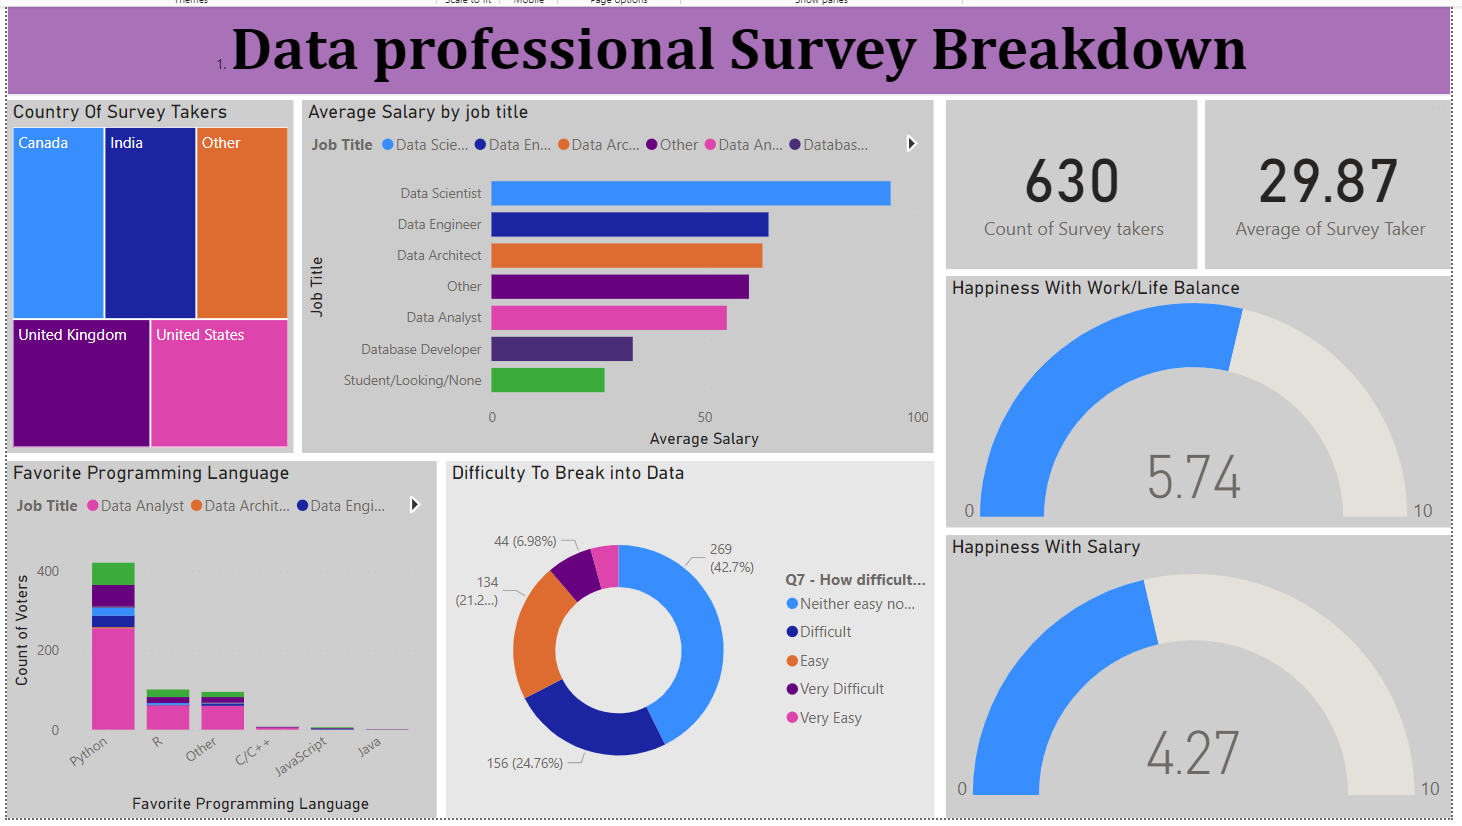

Layout of this report page (visuals, bound fields, positions):
{"tool":"powerbi","page":{"name":"Page 1","canvas":[1280,720],"ordinal":0},"visuals":[{"type":"textbox","box":[0,0,1280.4,78.9],"z":0},{"type":"card","fields":{"Values":["Count(Data Professional Survey.Unique ID)"]},"box":[832.6,83.3,222.6,149.9],"z":1},{"type":"card","fields":{"Values":["Avg(Data Professional Survey.Q10 - Current Age)"]},"box":[1062.3,83.3,218.1,149.9],"z":2},{"type":"barChart","title":" Average Salary by job title","fields":{"Category":["Data Professional Survey.Q1 - Which Title Best Fits your Current Role?.1"],"Y":["Avg(Data Professional Survey. Average Salary)"],"Series":["Data Professional Survey.Q1 - Which Title Best Fits your Current Role?.1"]},"box":[261.6,83.3,560.4,313],"z":3},{"type":"columnChart","title":" Favorite Programming Language","fields":{"Category":["Data Professional Survey.Q5 - Favorite Programming Language.1"],"Y":["CountNonNull(Data Professional Survey.Unique ID)"],"Series":["Data Professional Survey.Q1 - Which Title Best Fits your Current Role?.1"]},"box":[0,403.4,381.3,316.6],"z":4},{"type":"treemap","title":" Country Of Survey Takers","fields":{"Group":["Data Professional Survey.Q11 - Which Country do you live in?.1"],"Values":["Count(Data Professional Survey.Q11 - Which Country do you live in?.1)"]},"box":[0,83.3,254.5,313],"z":5},{"type":"gauge","title":" Happiness With Salary","fields":{"Y":["Avg(Data Professional Survey.Q6 - How Happy are you in your Current Position with the following? (Salary))"],"MinValue":["Min(Data Professional Survey.Q6 - How Happy are you in your Current Position with the following? (Salary))"],"MaxValue":["Max(Data Professional Survey.Q6 - How Happy are you in your Current Position with the following? (Salary))"]},"box":[832.6,469.1,447.8,250.9],"z":6},{"type":"gauge","title":" Happiness With Work/Life Balance","fields":{"Y":["Avg(Data Professional Survey.Q6 - How Happy are you in your Current Position with the following? (Work/Life Balance))"],"MinValue":["Min(Data Professional Survey.Q6 - How Happy are you in your Current Position with the following? (Work/Life Balance))"],"MaxValue":["Max(Data Professional Survey.Q6 - How Happy are you in your Current Position with the following? (Work/Life Balance))1"]},"box":[832.6,239.4,447.8,223.4],"z":7},{"type":"donutChart","title":" Difficulty To Break into Data","fields":{"Category":["Data Professional Survey.Q7 - How difficult was it for you to break into Data?"],"Y":["CountNonNull(Data Professional Survey.Q7 - How difficult was it for you to break into Data?)"]},"box":[389.3,403.4,432.7,316.6],"z":8}]}

Visuals, with their boxes in screenshot pixels (x1, y1, x2, y2):
textbox: <bbox>8, 0, 1450, 89</bbox>
card - Count(Data Professional Survey.Unique ID): <bbox>945, 94, 1196, 263</bbox>
card - Avg(Data Professional Survey.Q10 - Current Age): <bbox>1204, 94, 1450, 263</bbox>
" Average Salary by job title" barChart: <bbox>302, 94, 934, 446</bbox>
" Favorite Programming Language" columnChart: <bbox>8, 454, 437, 811</bbox>
" Country Of Survey Takers" treemap: <bbox>8, 94, 294, 446</bbox>
" Happiness With Salary" gauge: <bbox>945, 528, 1450, 811</bbox>
" Happiness With Work/Life Balance" gauge: <bbox>945, 270, 1450, 521</bbox>
" Difficulty To Break into Data" donutChart: <bbox>446, 454, 934, 811</bbox>
